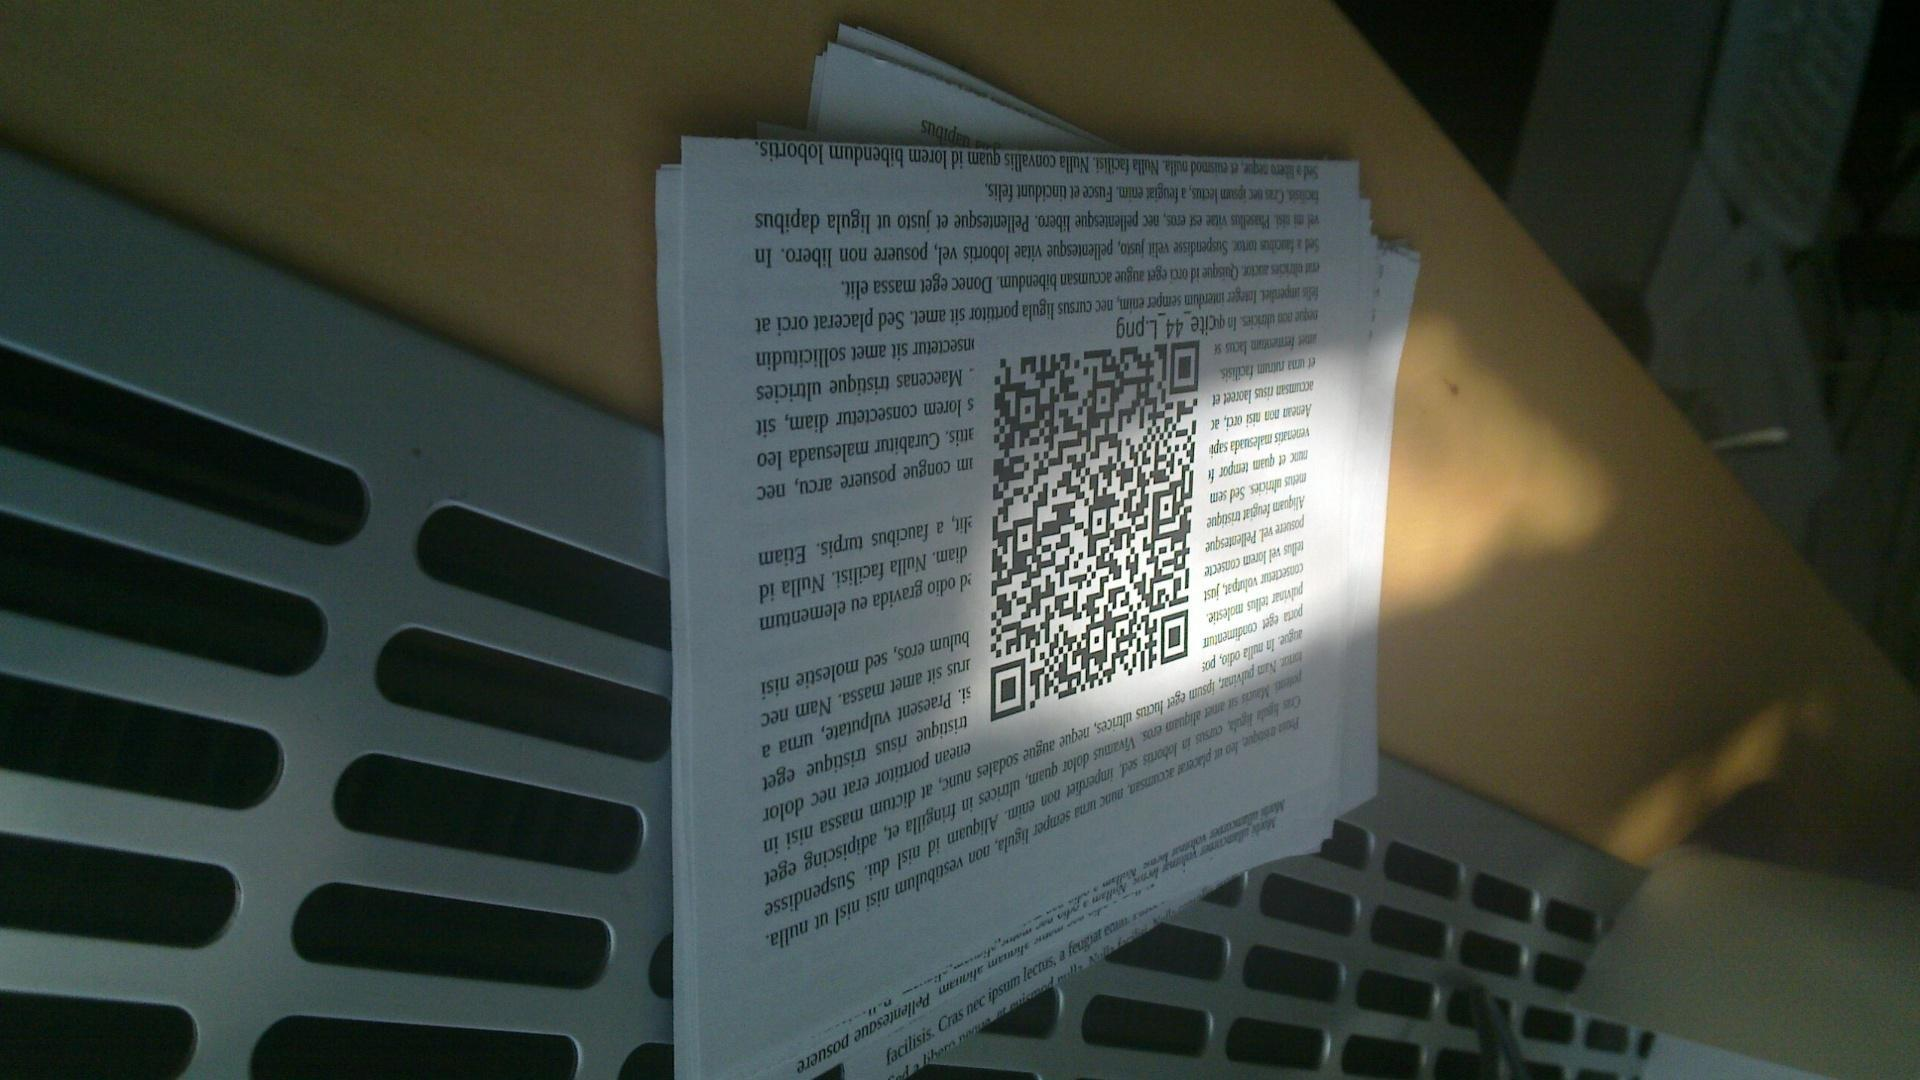Finder pattern: (982, 653, 1030, 729), (1163, 336, 1204, 400), (1154, 609, 1192, 669)
